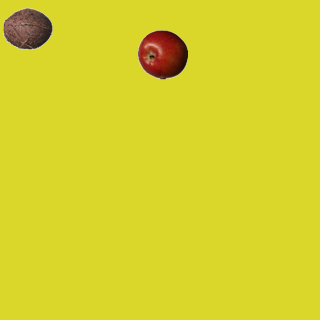Apple Braeburn: (137, 29, 187, 79)
Cocos: (2, 3, 52, 53)
